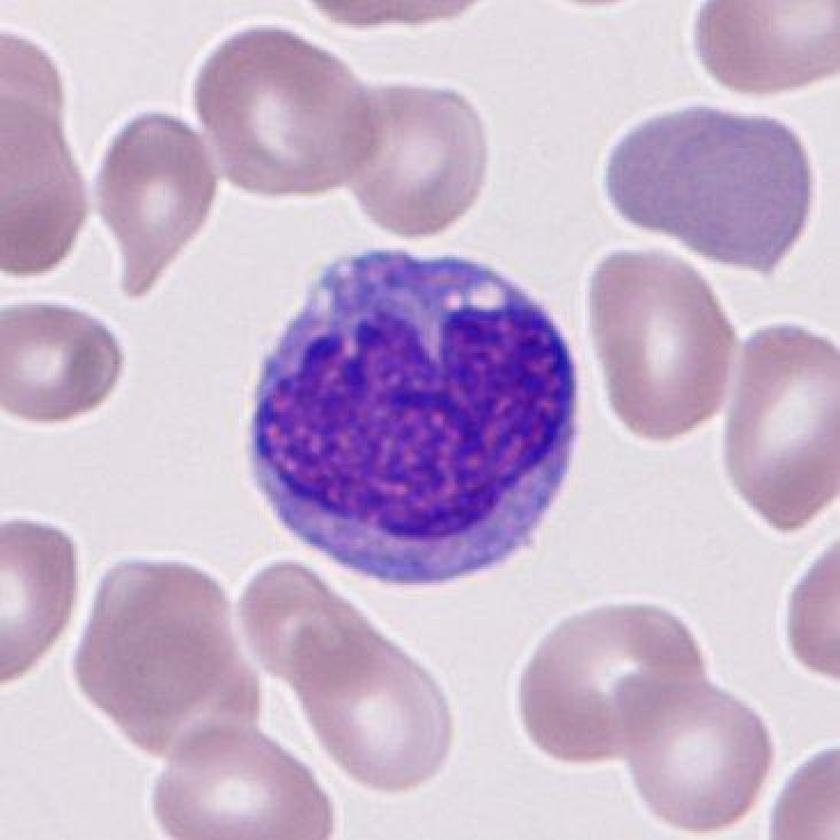monocyte: (228, 231, 598, 604)
